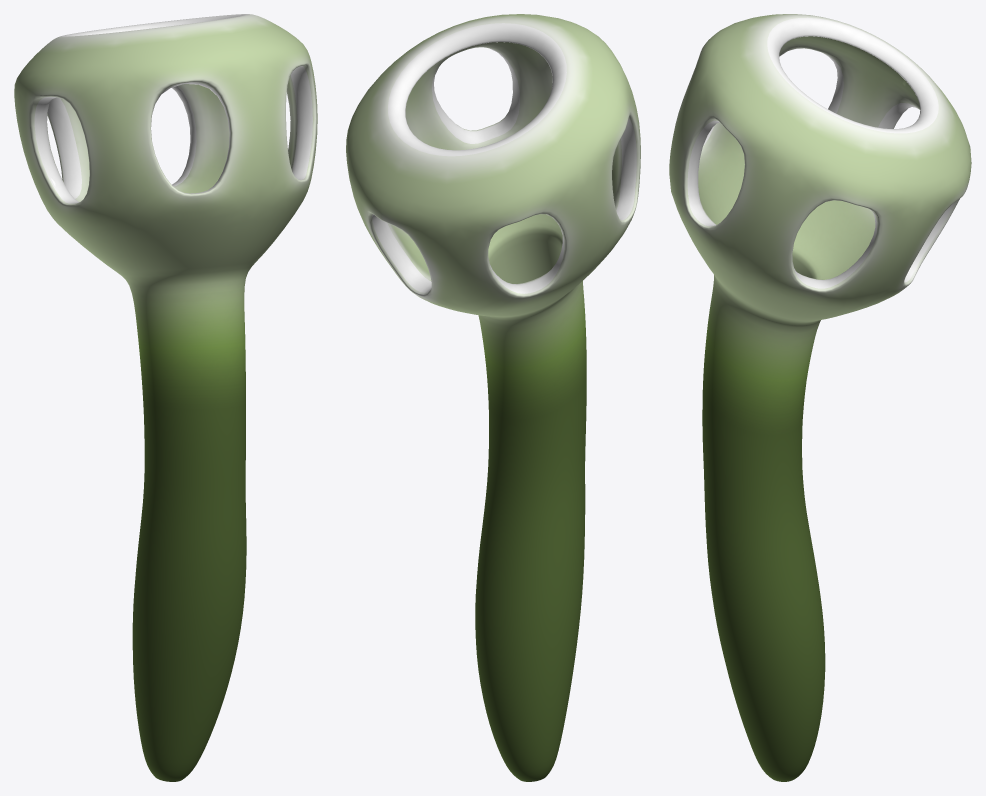
3 renders of one model, left to right at view 1: azimuth 30°, elevation 25°; view 2: azimuth 150°, elevation 25°; view 3: azimuth 270°, elevation 25°, orthographic.
Visible parts, largest first — view 1: Object_2; view 2: Object_2; view 3: Object_2.
Part boxes in pixels (bbox=[...]): Object_2: bbox=[14, 14, 317, 781]; Object_2: bbox=[346, 14, 640, 781]; Object_2: bbox=[669, 14, 971, 781].
Bounding box in the file's own units: 7.7 × 21.41 × 7.86.
1 material, 1 textured.
